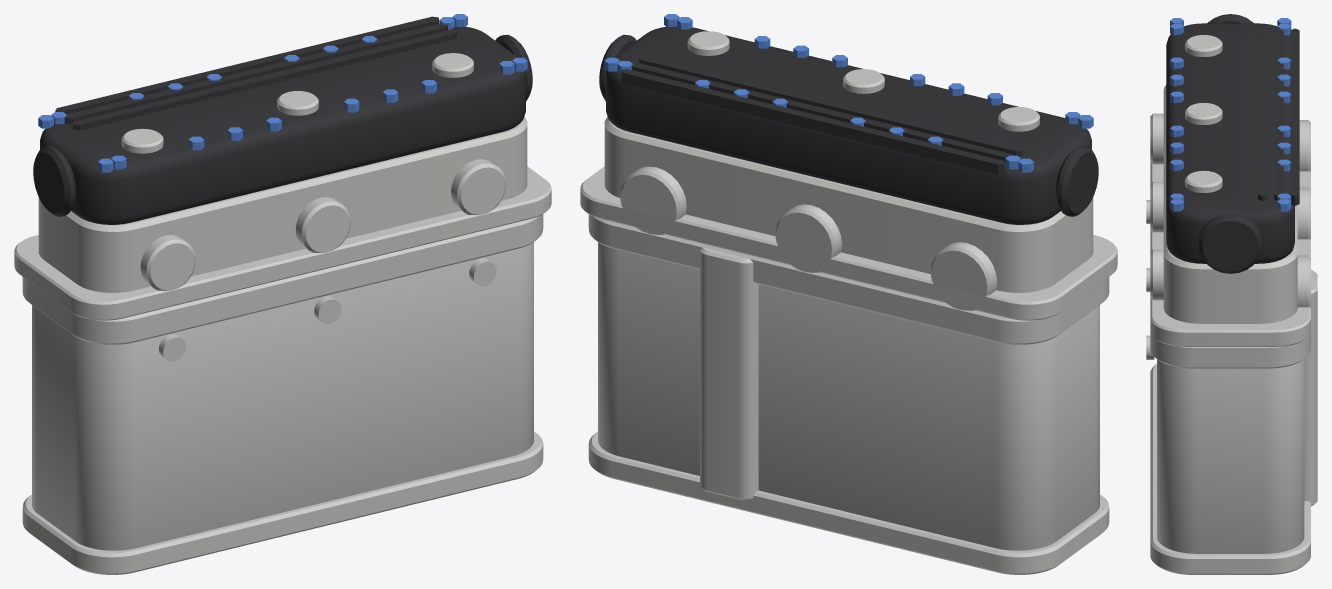
Rendered from race_high_comp.glb.
The picture shows the model from 3 angles, left to right: view 1: azimuth 30°, elevation 25°; view 2: azimuth 150°, elevation 25°; view 3: azimuth 270°, elevation 25°; orthographic projection. The views are drawn at different scales.
Parts seen in each view (by area): view 1: lod0; view 2: lod0; view 3: lod0.
Part boxes in pixels (x1=…): lod0: x1=14, y1=14, x2=551, y2=574; lod0: x1=580, y1=14, x2=1117, y2=574; lod0: x1=1146, y1=14, x2=1317, y2=574.
Size of what is drawn, in the model's own units: 0.368 by 0.3 by 0.128.
